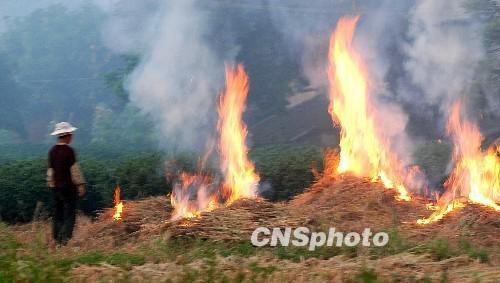fire: (318, 12, 416, 203), (155, 65, 270, 213), (429, 97, 498, 222), (105, 180, 131, 222)
